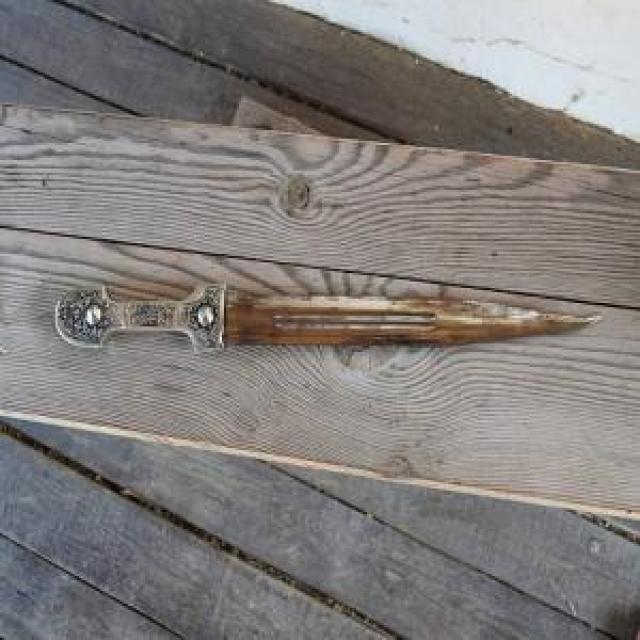knife: (51, 284, 604, 353)
